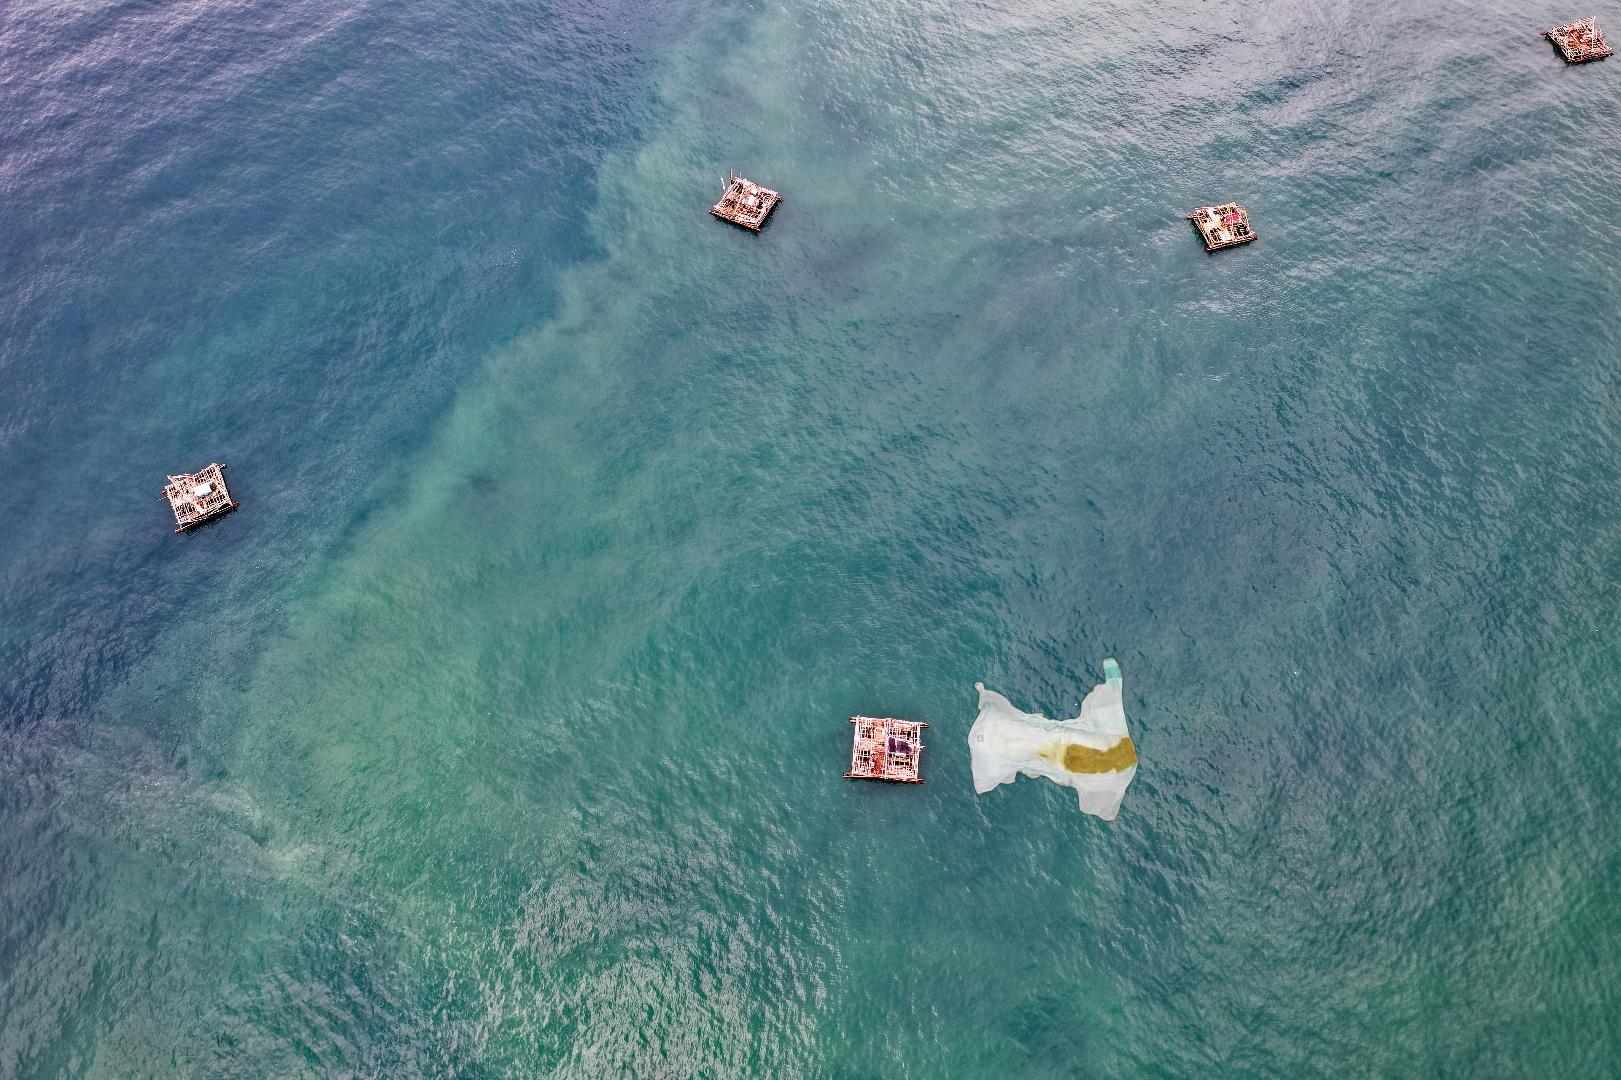trash: (964, 654, 1141, 824)
